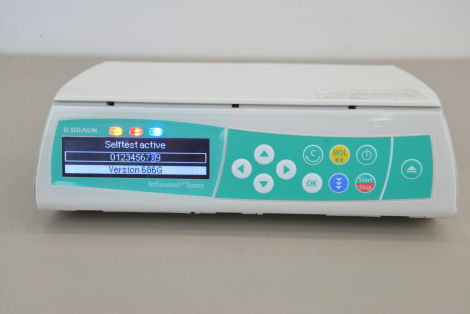BBraun Infusomat Space: (32, 59, 458, 225)
